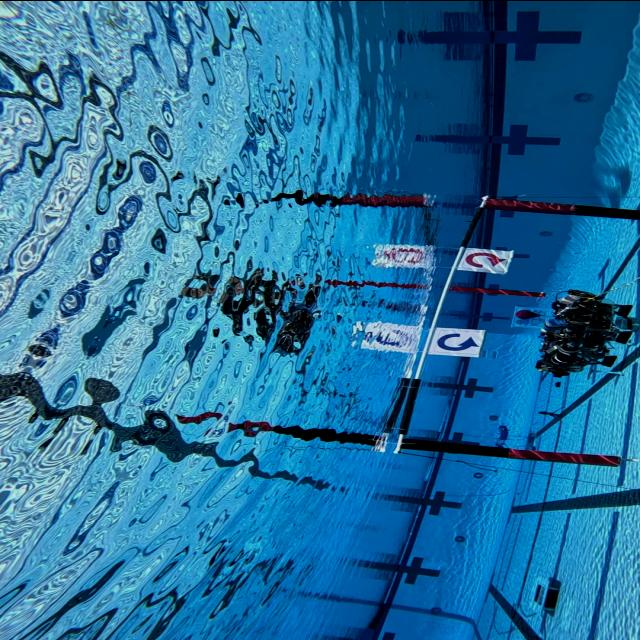blue_side: (426, 326, 491, 356)
red_side: (452, 244, 516, 272)
